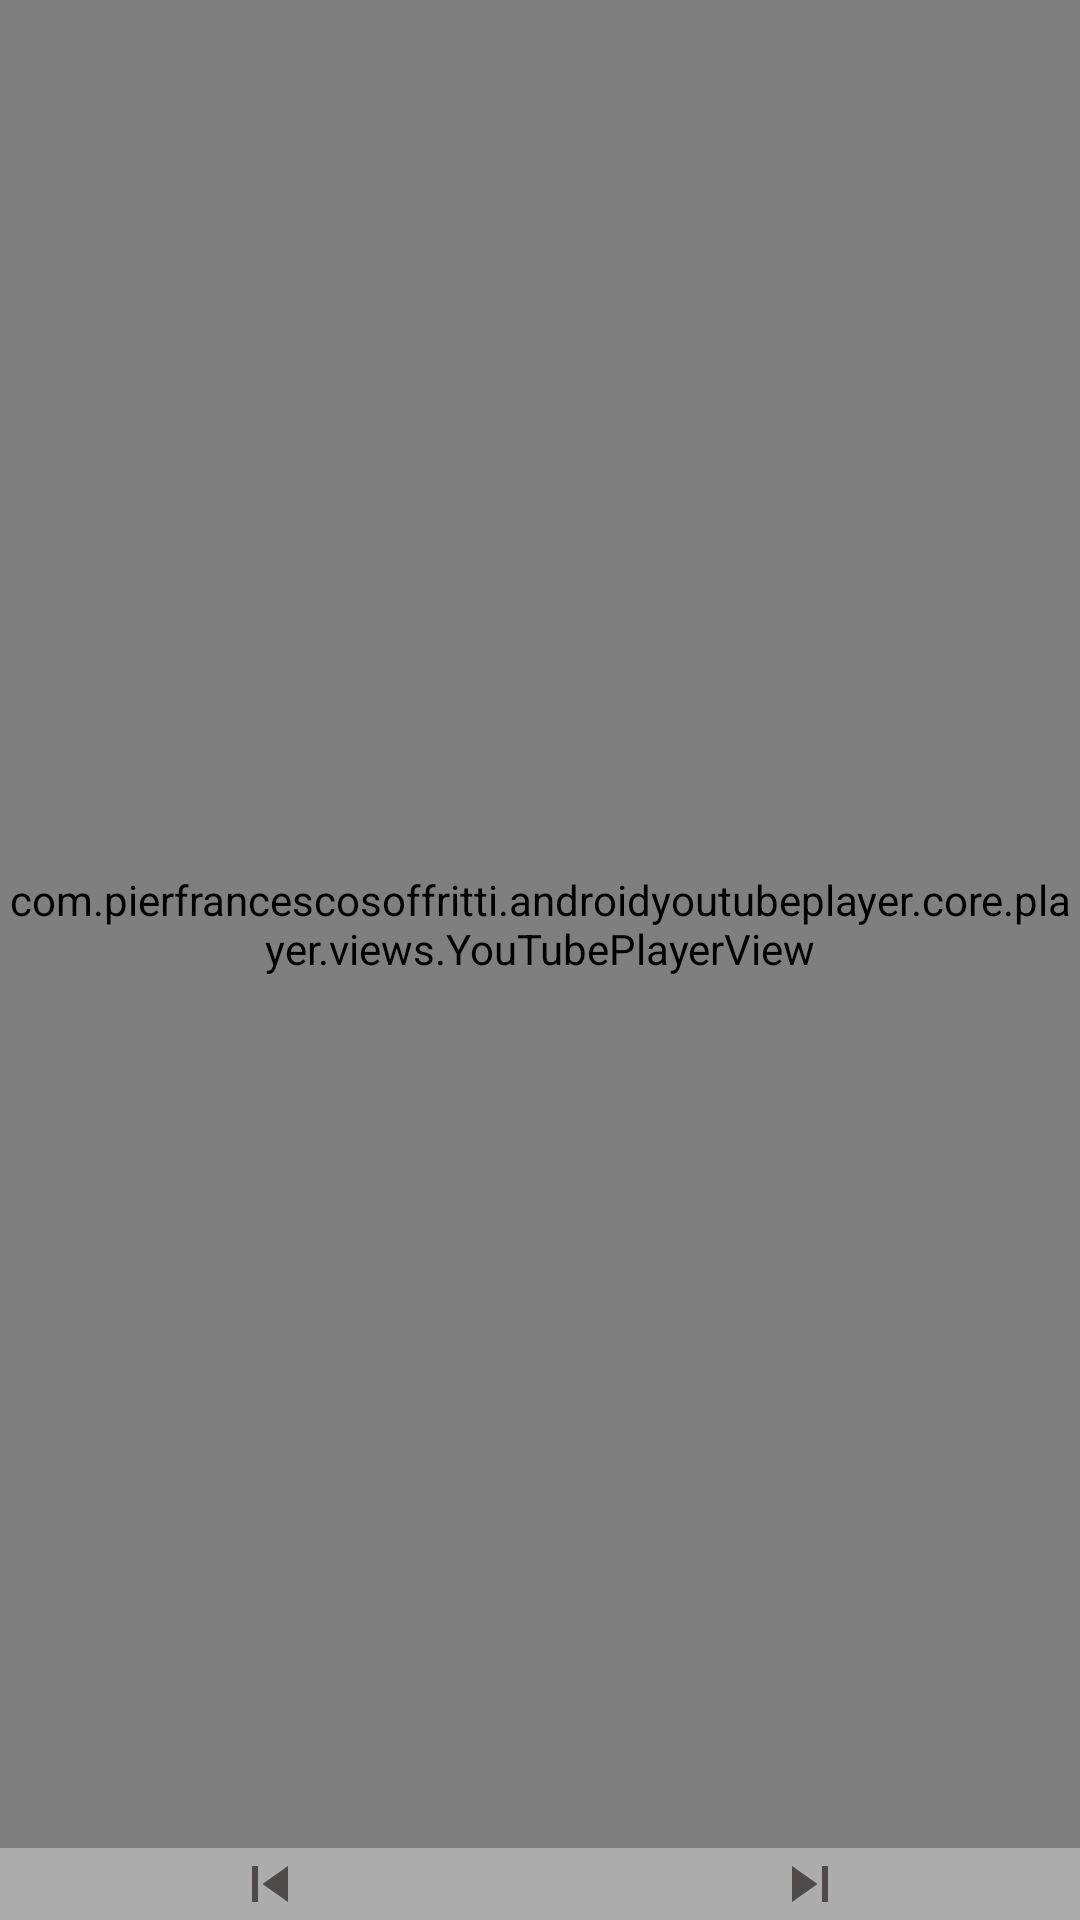

Point at icon controls on the screen. Image size 1080 × 1920, points as (x,y).
skip next: (810,1884)
skip previous: (270,1884)
